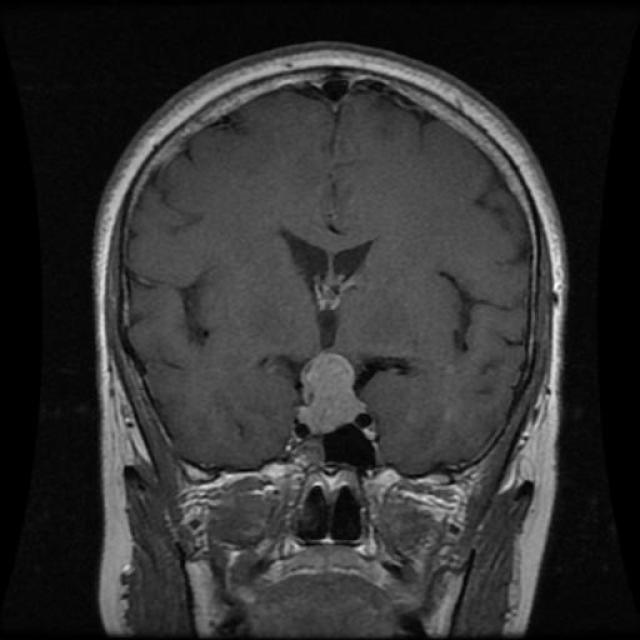pituitary: (283, 334, 392, 440)
